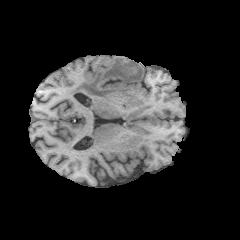glioma: (73, 57, 145, 98)
